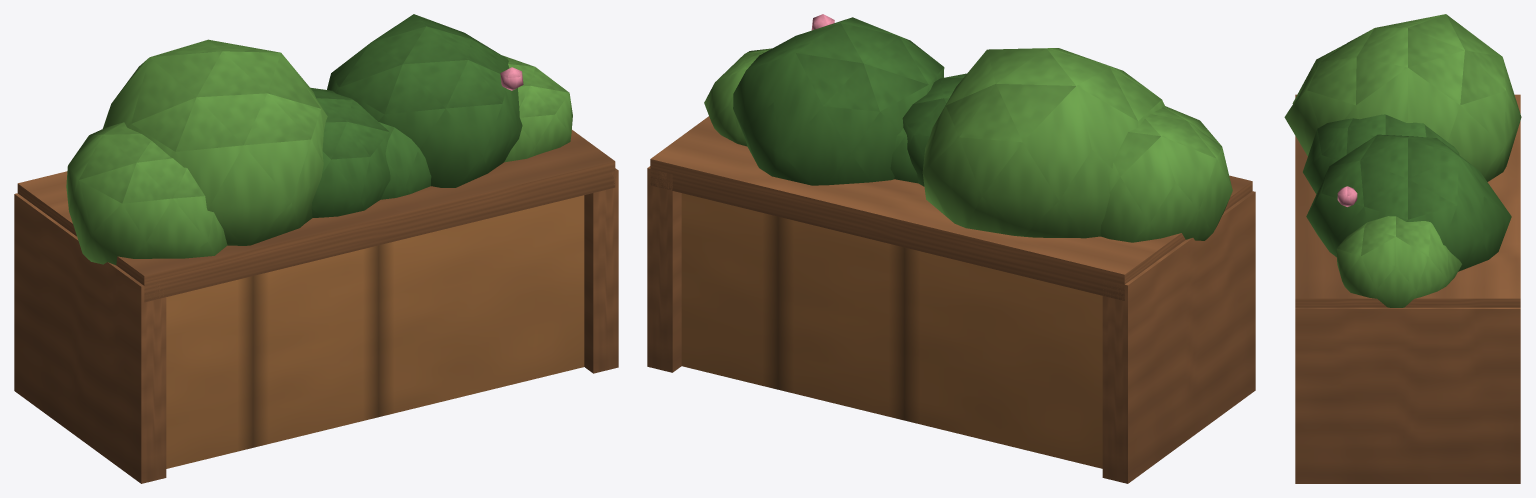
The model's file is planter_wood_01.glb.
The picture shows the model from 3 angles, left to right: view 1: azimuth 30°, elevation 25°; view 2: azimuth 150°, elevation 25°; view 3: azimuth 270°, elevation 25°; orthographic projection. The views are drawn at different scales.
Visible parts, largest first — view 1: planter_wood_01; view 2: planter_wood_01; view 3: planter_wood_01.
Boxes of the visible parts, x1,y1,x2,y2 form: planter_wood_01: (14, 14, 618, 483); planter_wood_01: (647, 14, 1255, 483); planter_wood_01: (1284, 14, 1521, 483).
Bounding box in the file's own units: 1.57 × 1.07 × 0.7364.
Materials: 1 (1 with a texture image).
